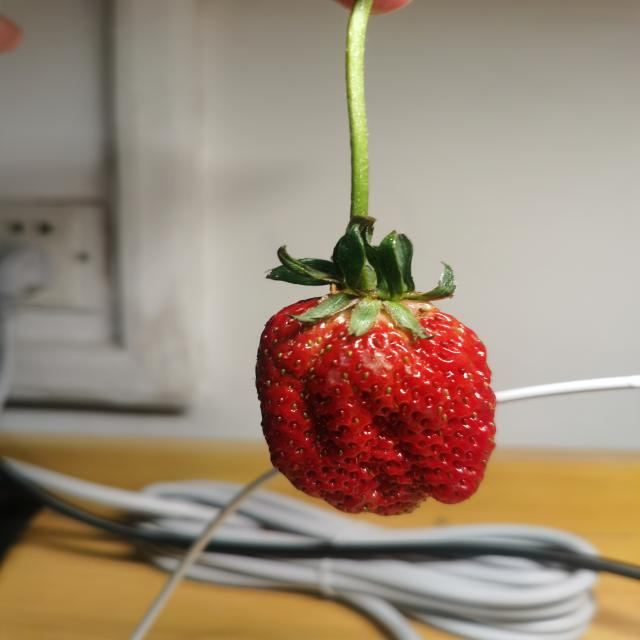stem: (349, 126, 368, 223)
strawberry: (256, 296, 497, 517)
